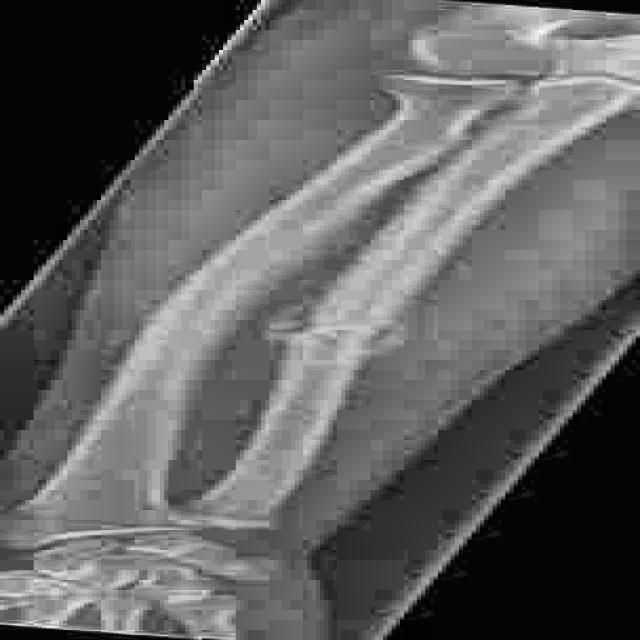forearm fracture: (200, 284, 522, 387)
